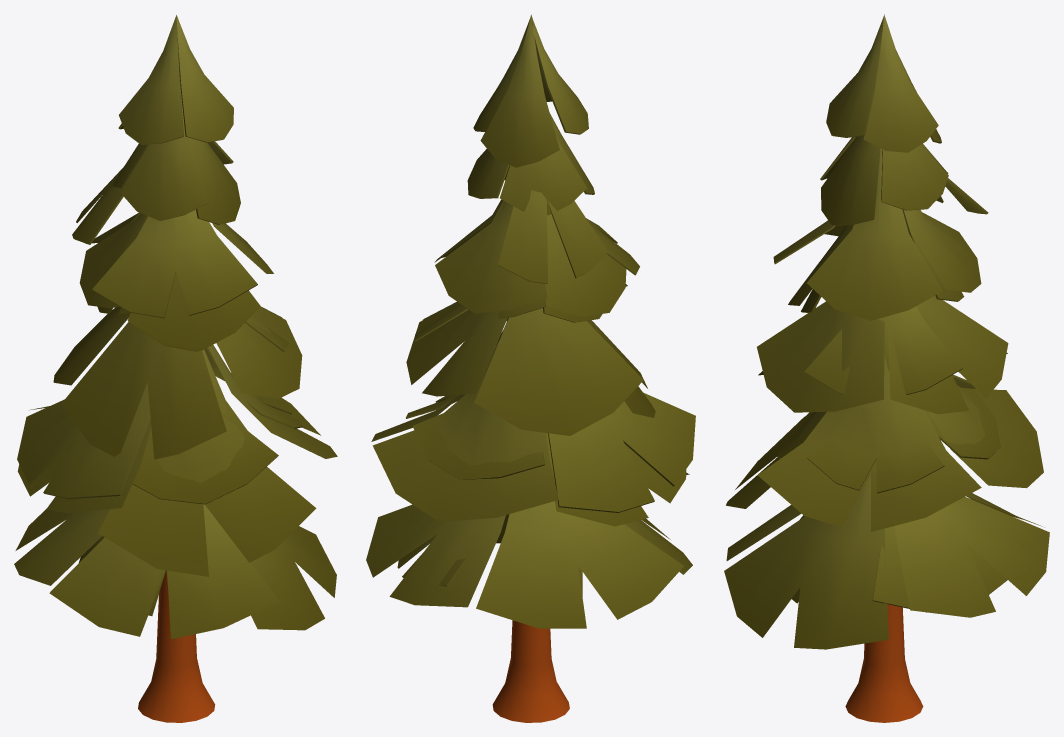
3 views of the same model, side by side, from view 1: azimuth 30°, elevation 25°; view 2: azimuth 150°, elevation 25°; view 3: azimuth 270°, elevation 25° (orthographic).
Parts seen in each view (by area): view 1: el, Pen.008, Pen.001, Pen.005, Pen.004, Pen.003, Pen.006; view 2: el, Pen.001, Pen.004, Pen.005, Pen.003, Pen.008, Pen.007; view 3: el, Pen.005, Pen.002, Pen.007, Pen.003, Pen.008, Pen.004.
Part boxes in pixels (x1,y1,x2,y2): el: (14,15,337,722); Pen.008: (92,209,257,318); Pen.001: (17,382,150,499); Pen.005: (132,347,302,504); Pen.004: (72,144,149,244); Pen.003: (97,32,233,351); Pen.006: (79,536,199,678); el: (366,14,692,722); Pen.001: (548,392,695,512); Pen.004: (498,190,608,283); Pen.005: (406,340,544,479); Pen.003: (460,26,602,322); Pen.008: (586,218,639,275); Pen.007: (397,534,465,586); el: (724,14,1049,722); Pen.005: (777,369,1000,493); Pen.002: (804,306,962,394); Pen.007: (872,523,1028,612); Pen.003: (801,49,964,313); Pen.008: (773,220,835,264); Pen.004: (936,178,988,214).
Bounding box in the file's own units: 1.52 × 3.58 × 1.53.
Materials: 1 (1 with a texture image).
